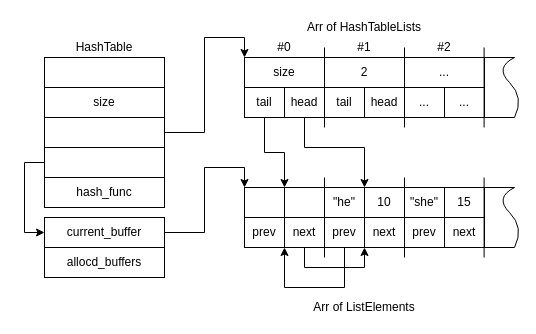
The diagram is 536 pixels wide and 334 high, and some of its shapes have lost their labels. The shapes that lost their labels are listed below. From the top down, each one's centre as x and y in pixels, then its label:
At (x=104, y=72): "n_elements".
At (x=104, y=132): "list_buffer".
At (x=104, y=162): "mem_manager".
At (x=264, y=202): "key".
At (x=304, y=202): "val".
